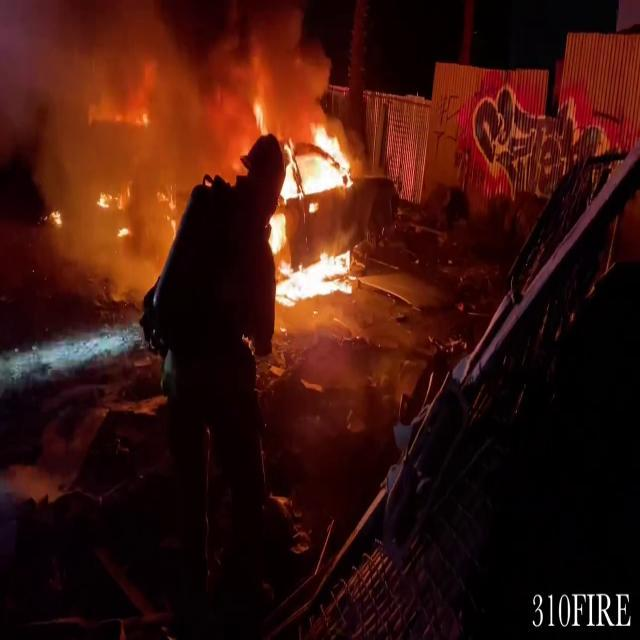Fire: (263, 115, 361, 306)
Smoke: (0, 0, 302, 292)
